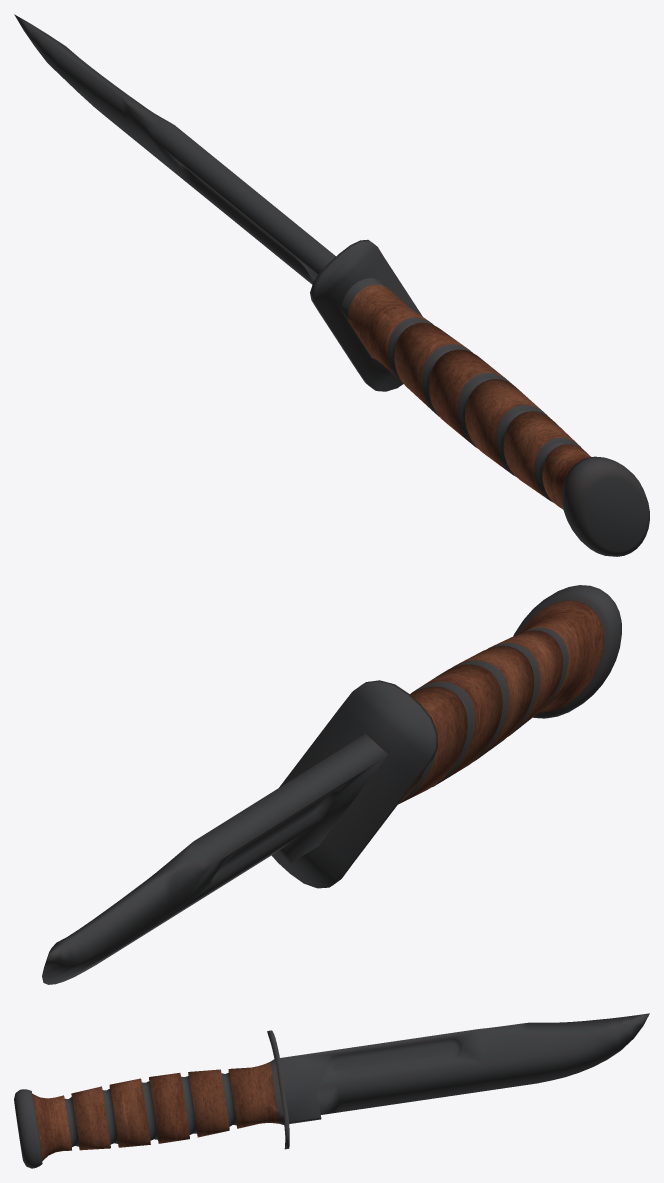
3 views of the same model, one above another, from view 1: azimuth 30°, elevation 25°; view 2: azimuth 150°, elevation 25°; view 3: azimuth 270°, elevation 25° (orthographic). The views are drawn at different scales.
Visible parts, largest first — view 1: kabar; view 2: kabar; view 3: kabar.
Boxes of the visible parts, <box> form: kabar: <box>14,14,649,556</box>; kabar: <box>42,585,621,984</box>; kabar: <box>14,1013,649,1168</box>.
Bounding box in the file's own units: 0.3077 × 0.4206 × 1.98.
1 material, 1 textured.
